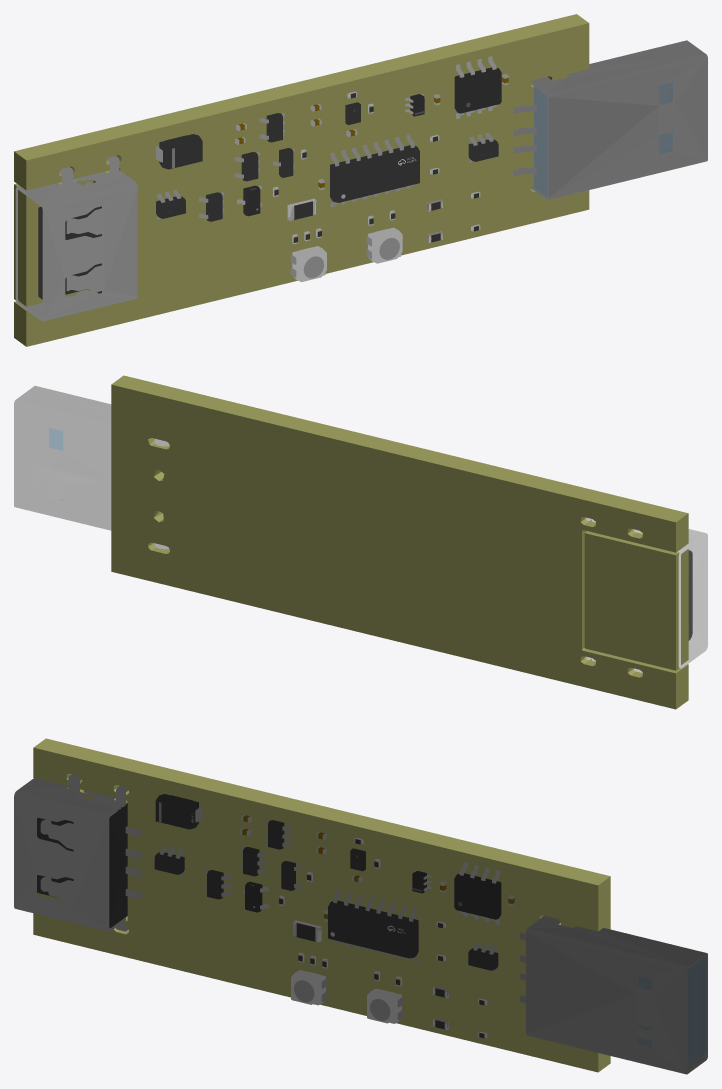
Rendered from OBJ_PCB_Dongle001_2.obj.
3 views of the same model, one above another, from view 1: azimuth 30°, elevation 25°; view 2: azimuth 150°, elevation 25°; view 3: azimuth 330°, elevation 25° (orthographic).
Bounding box in the file's own units: 308 × 82.38 × 24.76.
